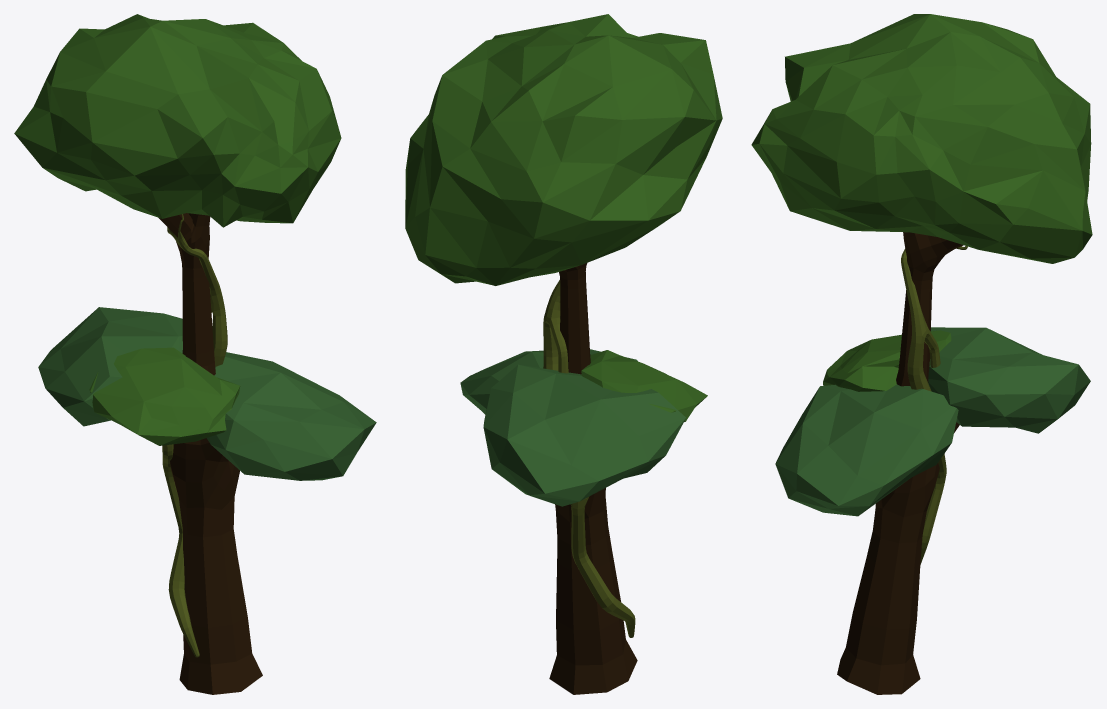
Rendered from jungle_tree2_withvine.fbx.
3 renders of one model, left to right at view 1: azimuth 30°, elevation 25°; view 2: azimuth 150°, elevation 25°; view 3: azimuth 270°, elevation 25°, orthographic. The views are drawn at different scales.
Parts seen in each view (by area): view 1: Plane; view 2: Plane; view 3: Plane.
Boxes of the visible parts, left/top/right/bottom form: Plane: left=14, top=14, right=376, bottom=694; Plane: left=405, top=14, right=722, bottom=694; Plane: left=751, top=14, right=1092, bottom=694.
Size of the model in its own units: 383 by 883 by 423.
